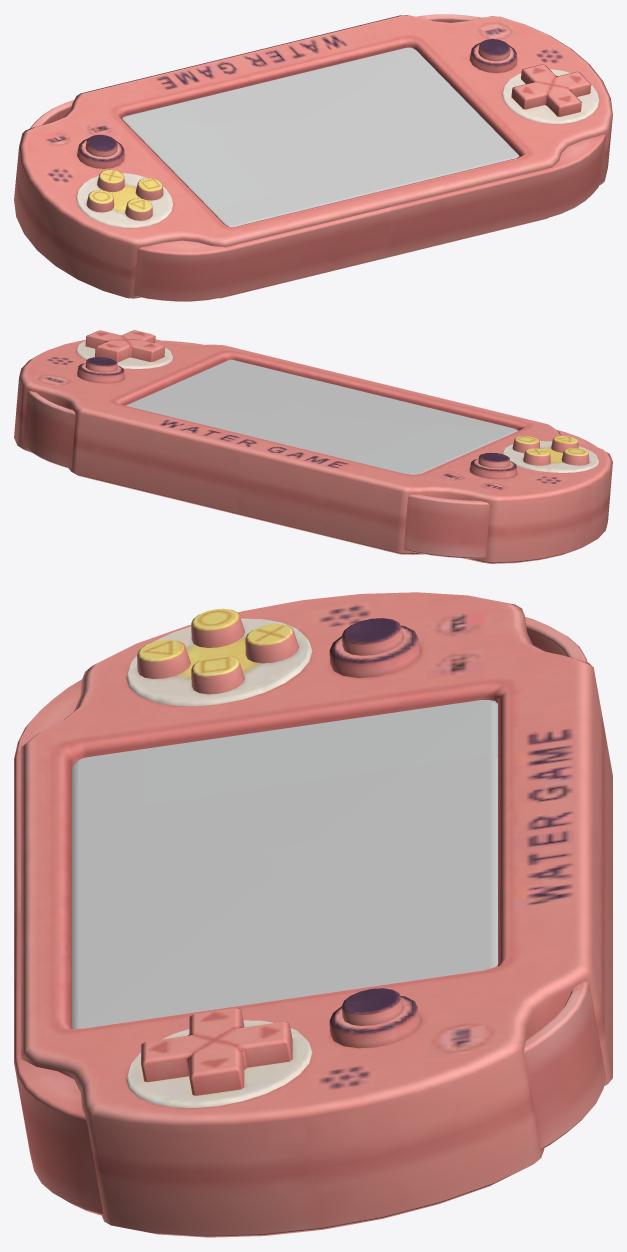
The model's file is ref_gtwatergame.glb.
3 renders of one model, top to bottom at view 1: azimuth 30°, elevation 25°; view 2: azimuth 150°, elevation 25°; view 3: azimuth 270°, elevation 25°, orthographic. The views are drawn at different scales.
Parts seen in each view (by area): view 1: ref_gtwatergame; view 2: ref_gtwatergame; view 3: ref_gtwatergame.
Boxes of the visible parts, x1=… form: ref_gtwatergame: x1=14, y1=14, x2=612, y2=301; ref_gtwatergame: x1=14, y1=330, x2=612, y2=563; ref_gtwatergame: x1=14, y1=592, x2=612, y2=1237.
Bounding box in the file's own units: 1 × 0.1851 × 0.4905.
Materials: 1 (1 with a texture image).
